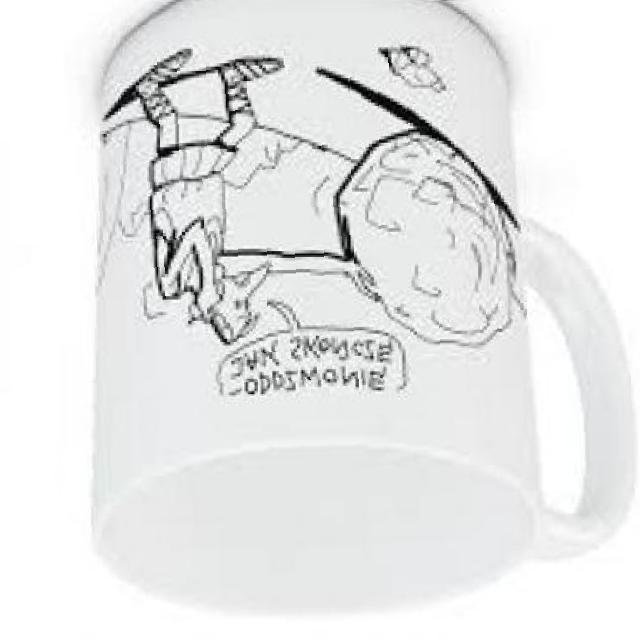cup: (61, 0, 640, 624)
